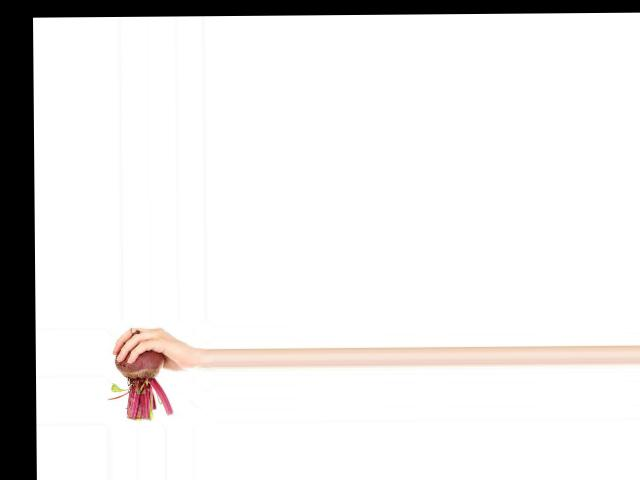beet: (107, 329, 173, 420)
